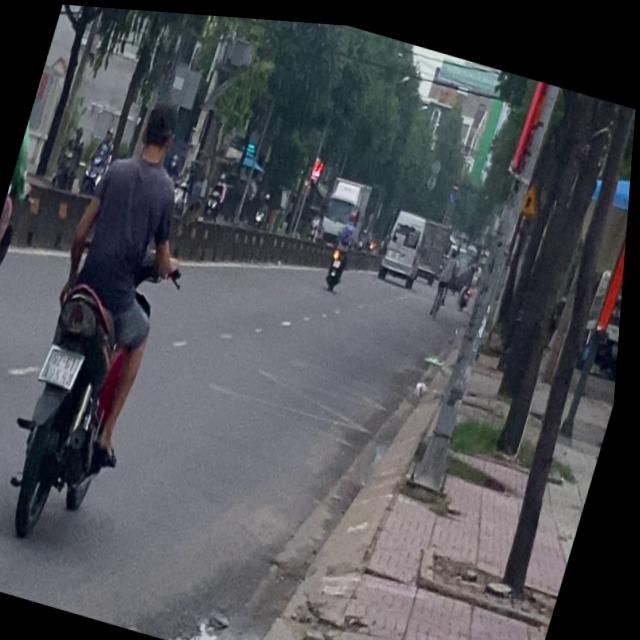licenseplate: (0, 71, 226, 563), (0, 38, 68, 378)
motorcyclist: (134, 90, 184, 161)
nohelmet: (43, 340, 87, 386)
